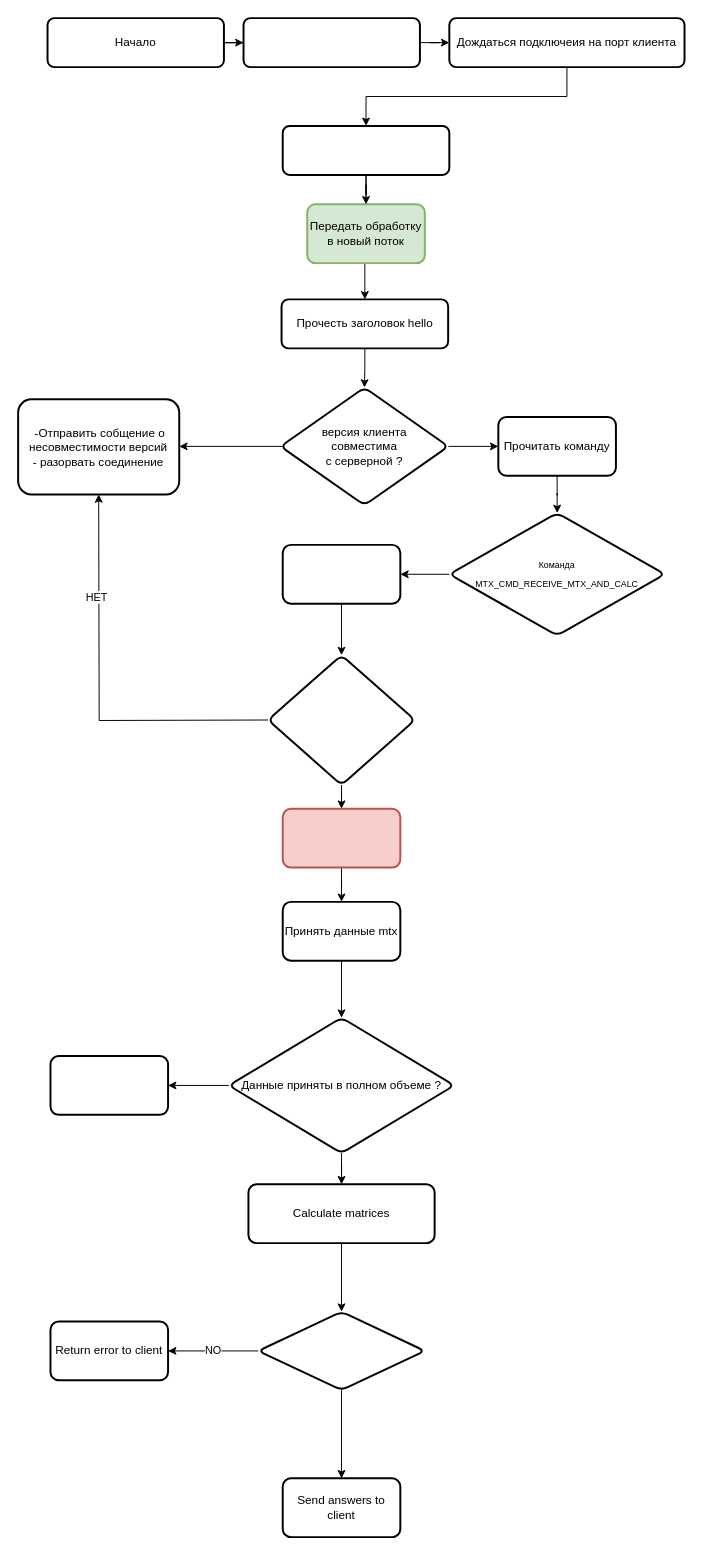
Image size: 702x1554. Some labels were removed from this diagram. The shapes that lost their labels are listed below. From the top down, each one's box as (x1, y1, x2, y2) in pixels, then its label:
(242, 17, 420, 68): Открыть сокет на порту #port
(281, 124, 450, 175): Начать сессию
(281, 543, 401, 604): Прочитать версию данных MTX
(267, 654, 416, 785): Сервер поддерживает эту версию данных ?
(281, 807, 401, 868): Отправить сообщение о готовности принимать данные
(49, 1055, 169, 1115): Отправить клиенту сообщение об ошибке
(257, 1310, 425, 1391): Calculate done without error ?
